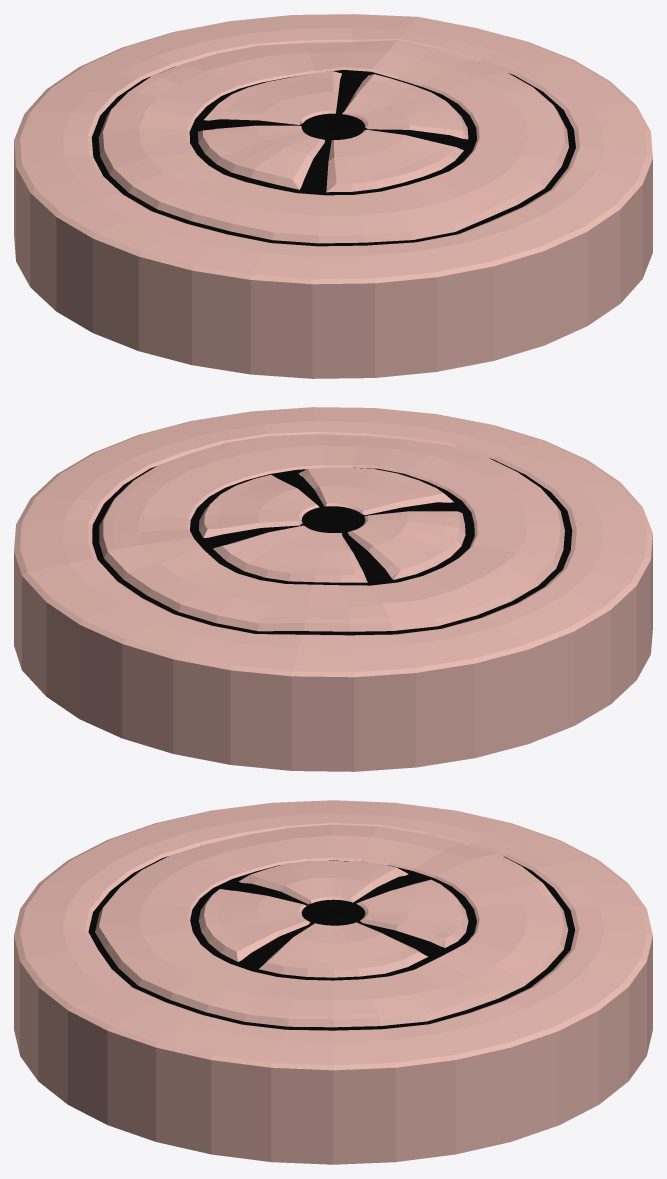
Rendered from F_SafeZoneBase.fbx.
3 views of the same model, one above another, from view 1: azimuth 30°, elevation 25°; view 2: azimuth 150°, elevation 25°; view 3: azimuth 270°, elevation 25° (orthographic).
Visible parts, largest first — view 1: Circle; view 2: Circle; view 3: Circle.
Part boxes in pixels (left/top/right/bottom): Circle: left=14, top=14, right=652, bottom=378; Circle: left=14, top=407, right=652, bottom=771; Circle: left=14, top=800, right=652, bottom=1164.
Bounding box in the file's own units: 1361 × 284 × 1361.
